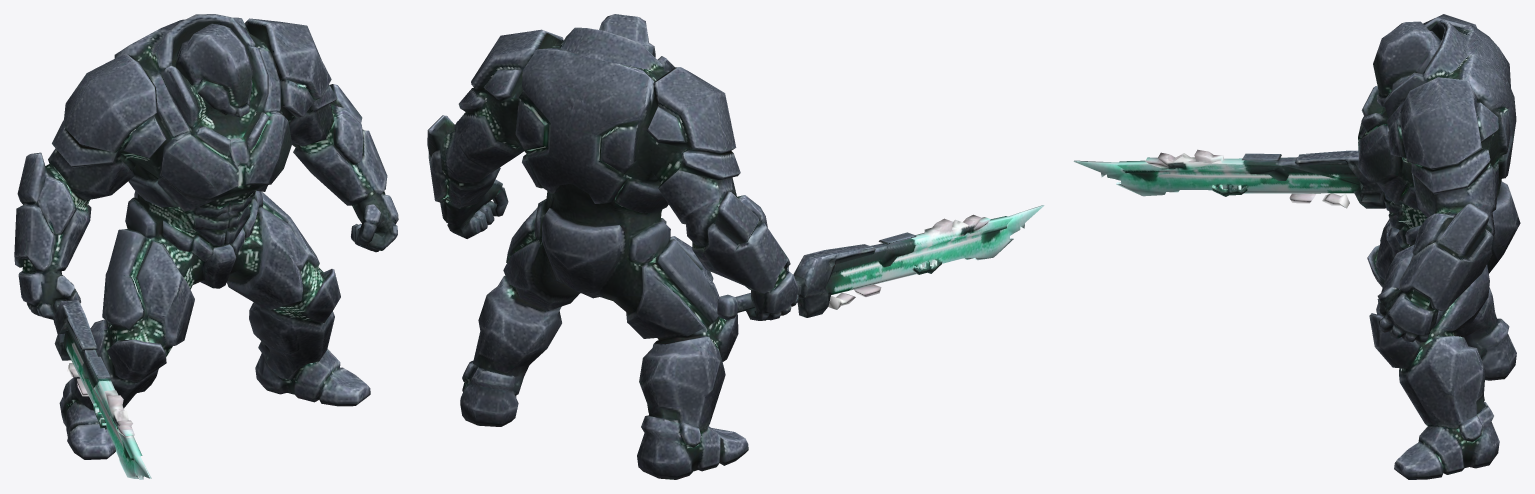
The model's file is legion_tripod_2.0.glb.
3 views of the same model, side by side, from view 1: azimuth 30°, elevation 25°; view 2: azimuth 150°, elevation 25°; view 3: azimuth 270°, elevation 25° (orthographic). The views are drawn at different scales.
Visible parts, largest first — view 1: tripo_node_a65f6299-a191-4399-ad59-622fca44e607; view 2: tripo_node_a65f6299-a191-4399-ad59-622fca44e607; view 3: tripo_node_a65f6299-a191-4399-ad59-622fca44e607.
Part boxes in pixels (x1=…): tripo_node_a65f6299-a191-4399-ad59-622fca44e607: x1=14, y1=14, x2=398, y2=479; tripo_node_a65f6299-a191-4399-ad59-622fca44e607: x1=427, y1=14, x2=1044, y2=479; tripo_node_a65f6299-a191-4399-ad59-622fca44e607: x1=1073, y1=14, x2=1520, y2=479.
Bounding box in the file's own units: 0.9995 × 0.9155 × 0.9644.
Materials: 1 (1 with a texture image).
